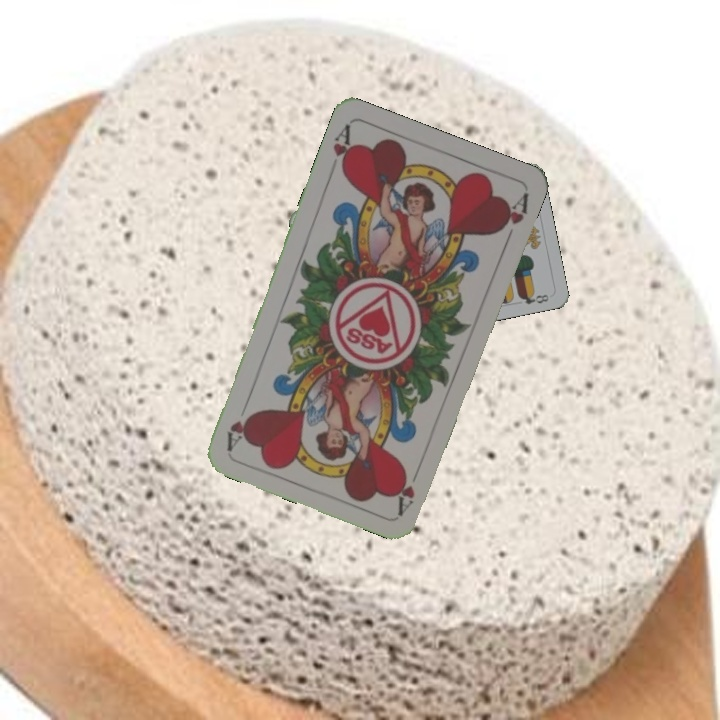HA: (325, 121, 357, 179), (393, 460, 425, 516)
